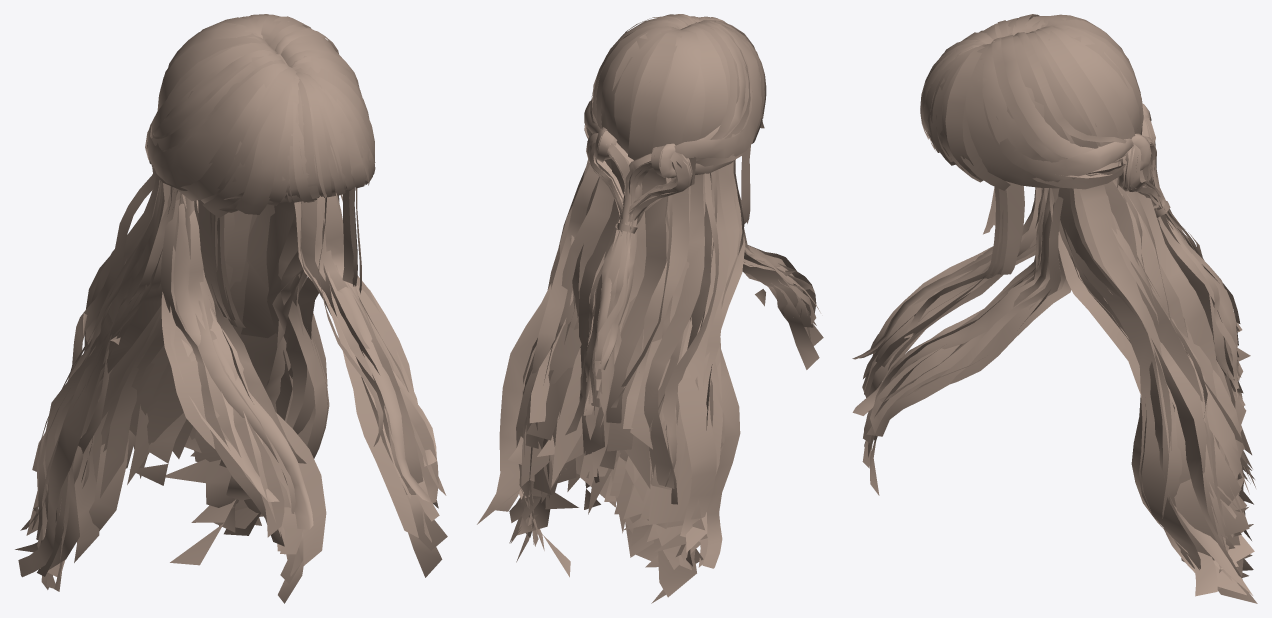
The model's file is female_hair_01_lod0.glb.
3 renders of one model, left to right at view 1: azimuth 30°, elevation 25°; view 2: azimuth 150°, elevation 25°; view 3: azimuth 270°, elevation 25°, orthographic. The views are drawn at different scales.
Visible parts, largest first — view 1: female-hair-01; view 2: female-hair-01; view 3: female-hair-01.
Boxes of the visible parts, x1,y1,x2,y2 form: female-hair-01: (15, 14, 447, 603); female-hair-01: (477, 14, 823, 603); female-hair-01: (852, 14, 1257, 603).
Size of the model in its own units: 0.2949 by 0.6147 by 0.4073.
